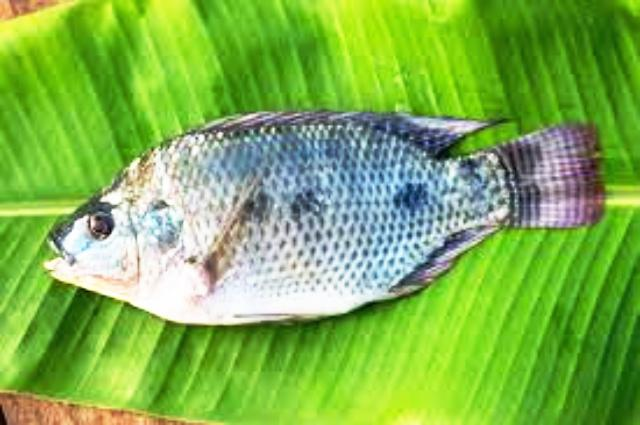Healthy Fish: (44, 112, 607, 328)
